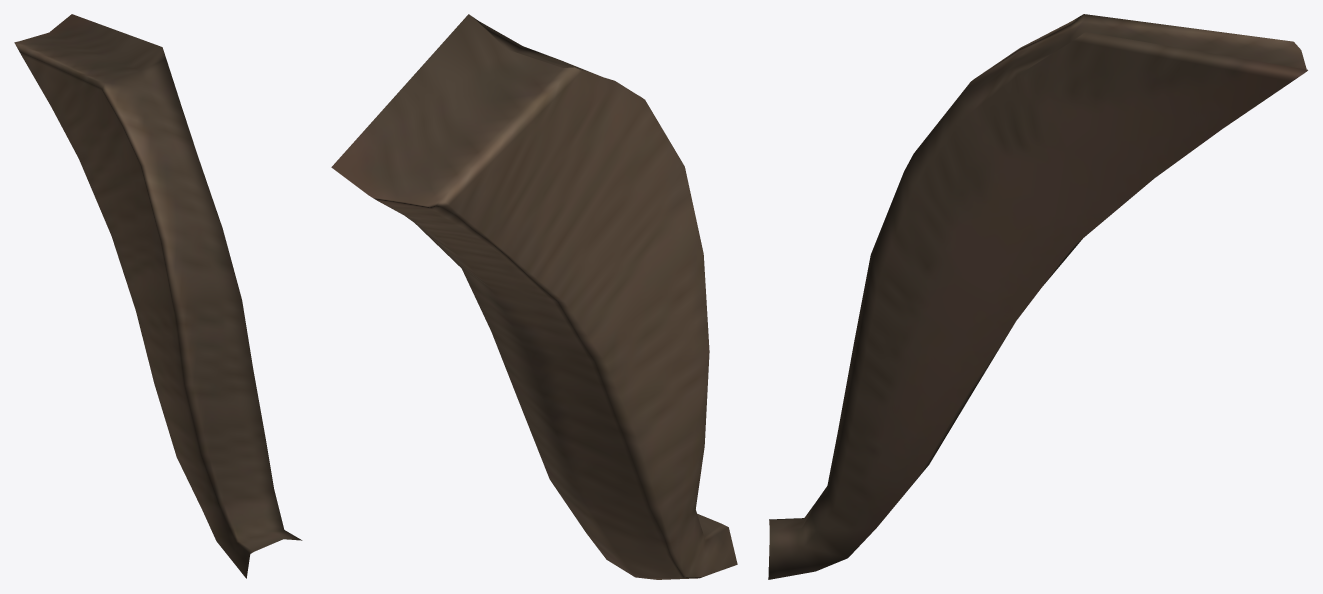
Rendered from Hypothalamus.gltf.
The picture shows the model from 3 angles, left to right: view 1: azimuth 30°, elevation 25°; view 2: azimuth 150°, elevation 25°; view 3: azimuth 270°, elevation 25°; orthographic projection. The views are drawn at different scales.
Parts seen in each view (by area): view 1: Hypothalamus; view 2: Hypothalamus; view 3: Hypothalamus.
Boxes of the visible parts, x1,y1,x2,y2 form: Hypothalamus: (14, 14, 302, 578); Hypothalamus: (331, 14, 737, 579); Hypothalamus: (768, 14, 1307, 579).
Bounding box in the file's own units: 0.6017 × 2.93 × 2.62.
1 material, 1 textured.
